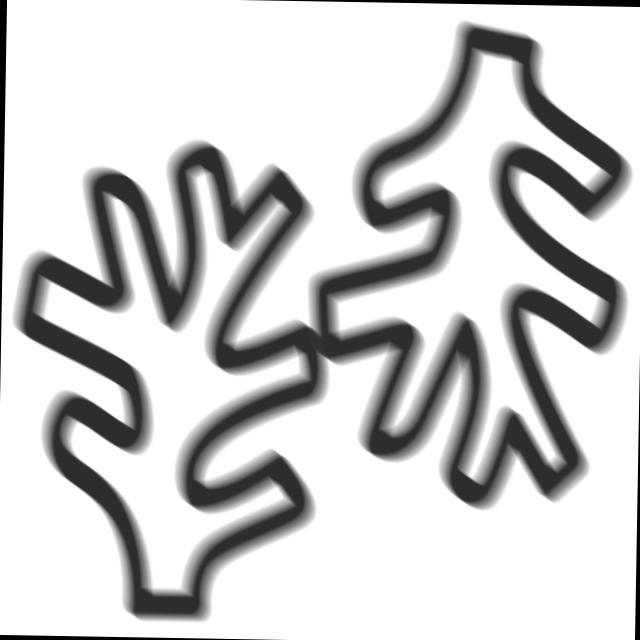coral: (297, 12, 640, 517), (1, 133, 337, 628)
